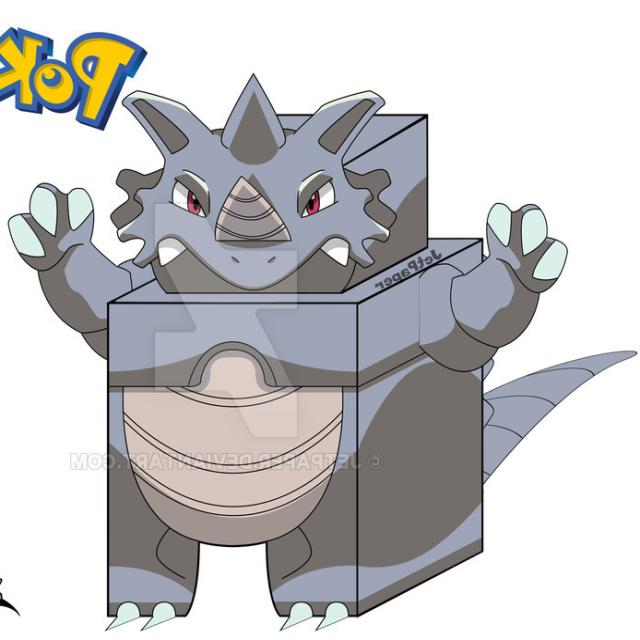Rhydon: (91, 97, 501, 613)
